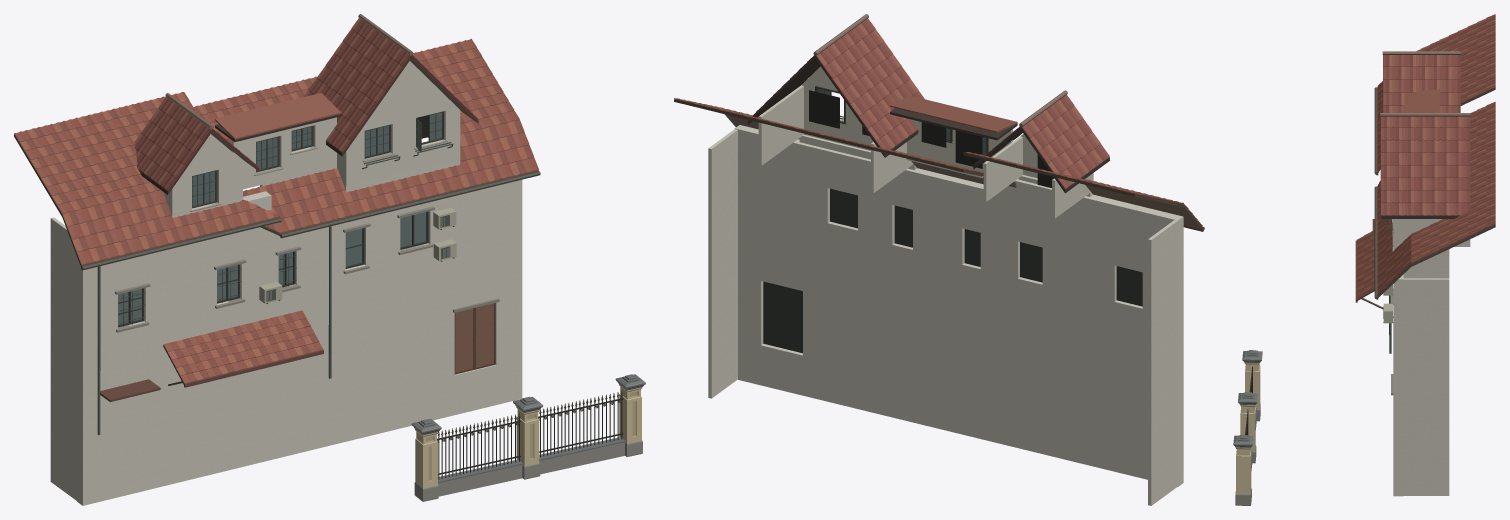
The model's file is huangpu-xiangshan-9-residential-dormers-lod.glb.
3 renders of one model, left to right at view 1: azimuth 30°, elevation 25°; view 2: azimuth 150°, elevation 25°; view 3: azimuth 270°, elevation 25°, orthographic. The views are drawn at different scales.
Parts seen in each view (by area): view 1: 香山路9号住宅临街立面与双山墙老虎窗; view 2: 香山路9号住宅临街立面与双山墙老虎窗; view 3: 香山路9号住宅临街立面与双山墙老虎窗.
Part boxes in pixels (x1,y1,x2,y2): 香山路9号住宅临街立面与双山墙老虎窗: (14, 14, 645, 505); 香山路9号住宅临街立面与双山墙老虎窗: (674, 14, 1204, 505); 香山路9号住宅临街立面与双山墙老虎窗: (1233, 14, 1495, 505).
Size of the model in its own units: 17.39 by 13.13 by 9.37.
38 materials, 1 textured.
